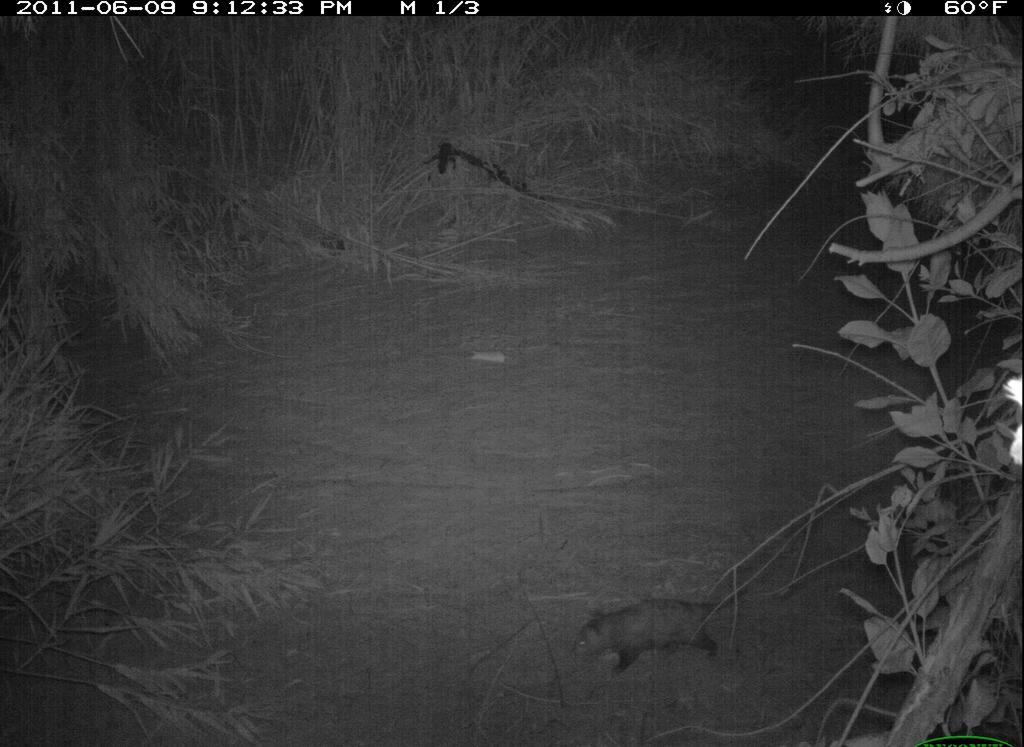opossum: (565, 585, 753, 678)
